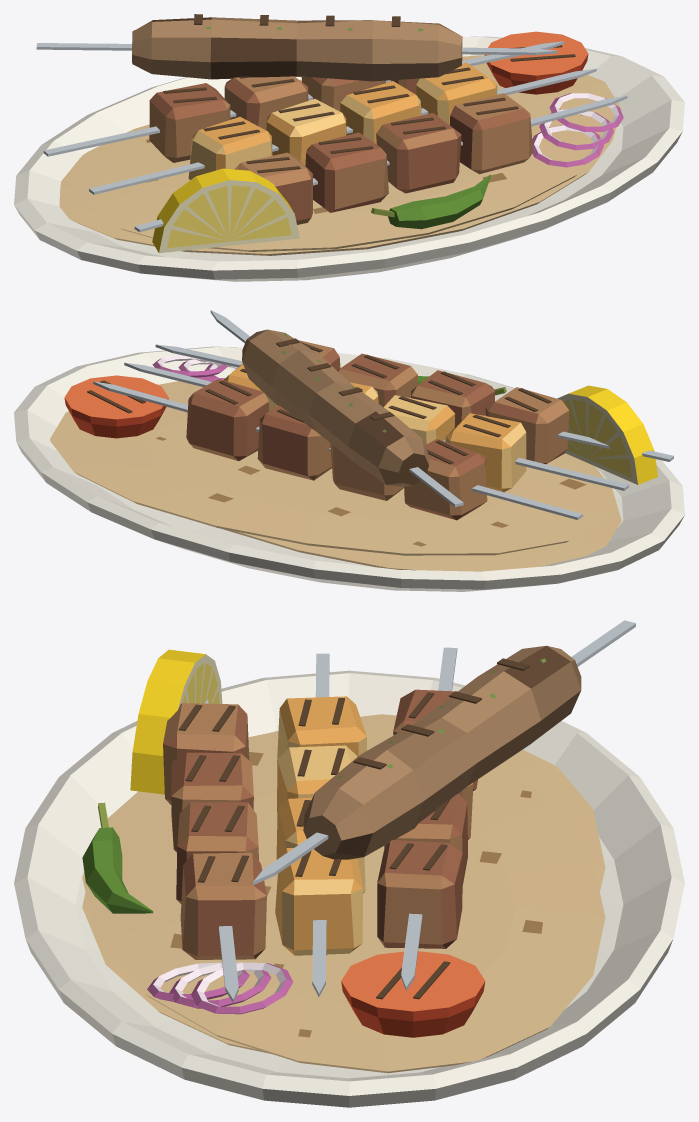
Rendered from mashawi-platter.glb.
The picture shows the model from 3 angles, top to bottom: view 1: azimuth 30°, elevation 25°; view 2: azimuth 150°, elevation 25°; view 3: azimuth 270°, elevation 25°; orthographic projection. The views are drawn at different scales.
Parts seen in each view (by area): view 1: mashawi-platter; view 2: mashawi-platter; view 3: mashawi-platter.
Part boxes in pixels (x1,y1,x2,y2): mashawi-platter: [14, 14, 684, 281]; mashawi-platter: [14, 310, 684, 591]; mashawi-platter: [14, 620, 684, 1107].
Size of the model in its own units: 0.6 by 0.1373 by 0.4.
